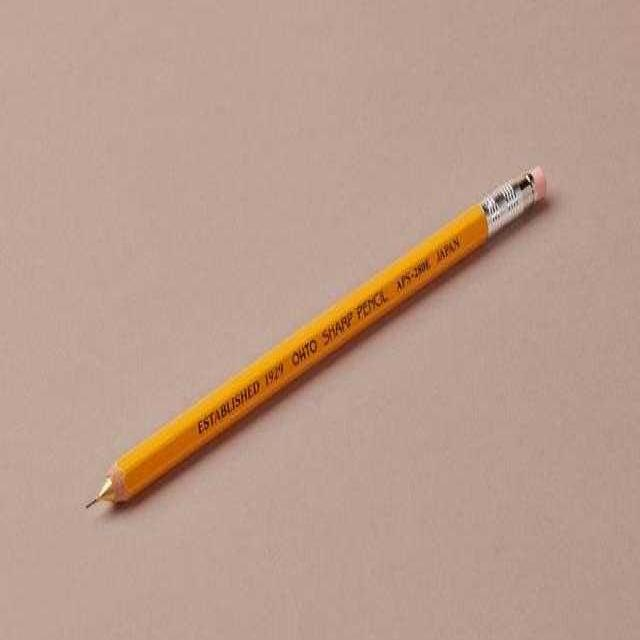pencil: (64, 117, 582, 557)
